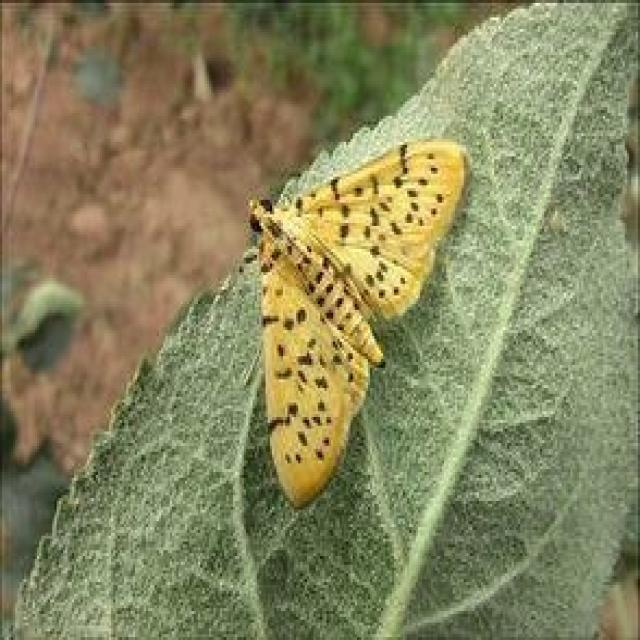peach borer: (237, 140, 470, 511)
